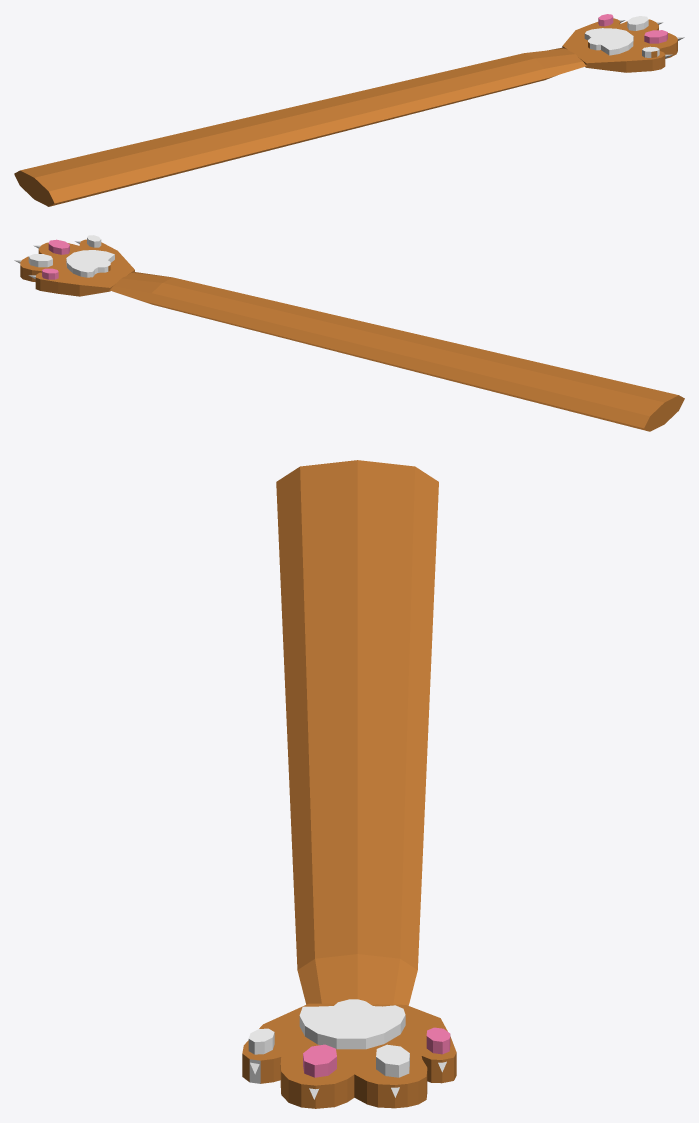
File: lapka3.fbx
The picture shows the model from 3 angles, top to bottom: view 1: azimuth 30°, elevation 25°; view 2: azimuth 150°, elevation 25°; view 3: azimuth 270°, elevation 25°; orthographic projection. The views are drawn at different scales.
Visible parts, largest first — view 1: Circle.025; view 2: Circle.025; view 3: Circle.025.
Part boxes in pixels (x1=…): Circle.025: x1=14, y1=14, x2=684, y2=206; Circle.025: x1=14, y1=235, x2=684, y2=431; Circle.025: x1=242, y1=460, x2=456, y2=1108.
Bounding box in the file's own units: 159 × 5.53 × 23.03.
